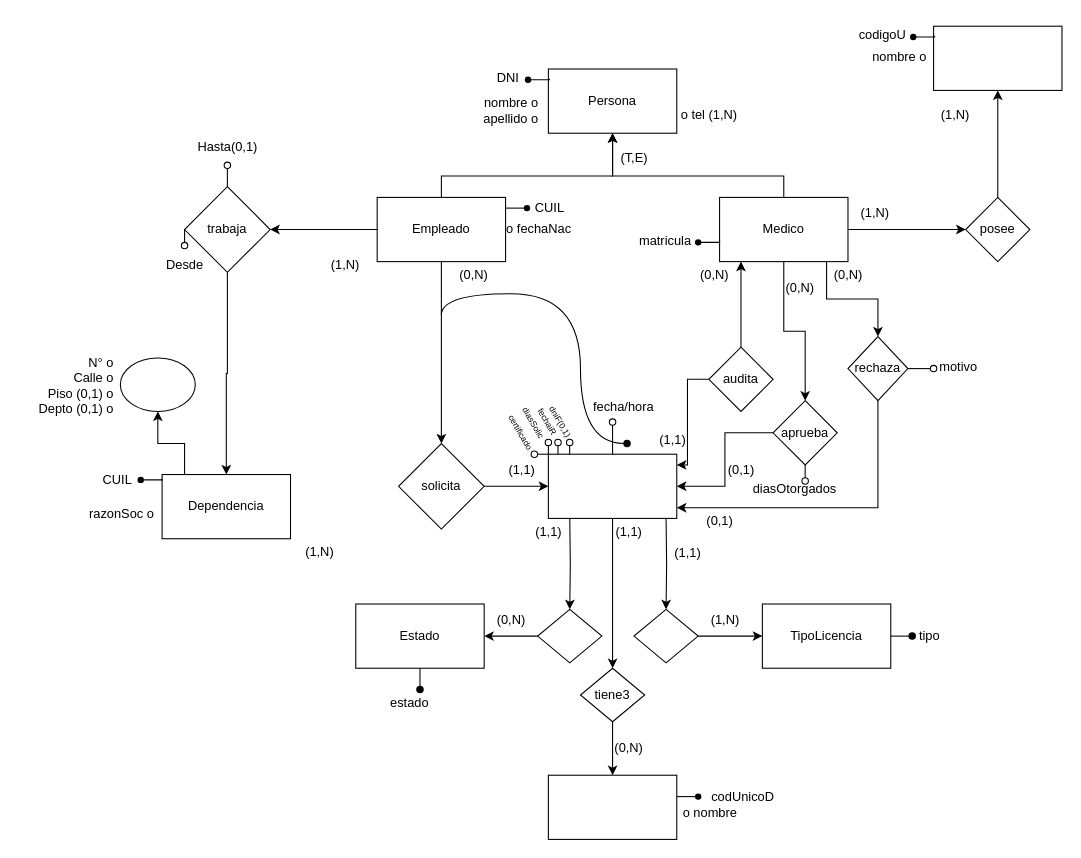
The diagram is 1081 pixels wide and 858 high, and some of its shapes have lost their labels. Each missing label, with the box of its shape:
Diagnostico: (547, 774, 677, 839)
Direccion: (119, 357, 195, 411)
Especialidad: (933, 25, 1062, 90)
Licencia: (547, 453, 677, 518)
tiene: (633, 608, 698, 663)
tiene2: (537, 608, 602, 663)
